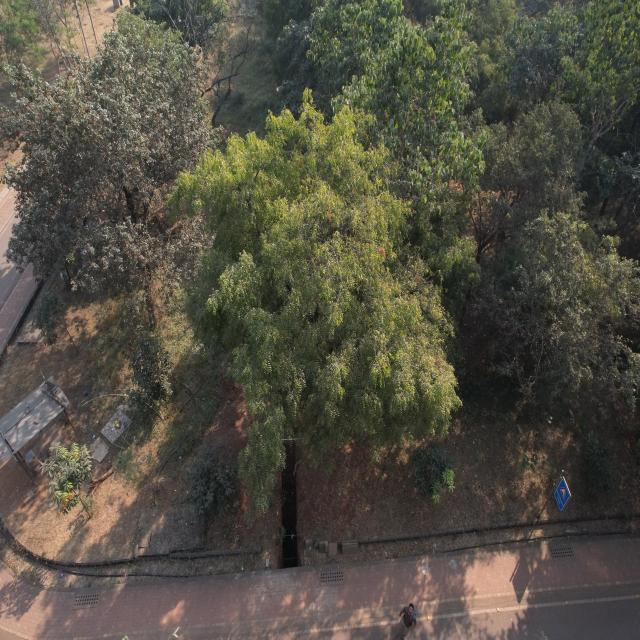Neem-Tree: (188, 125, 444, 488)
